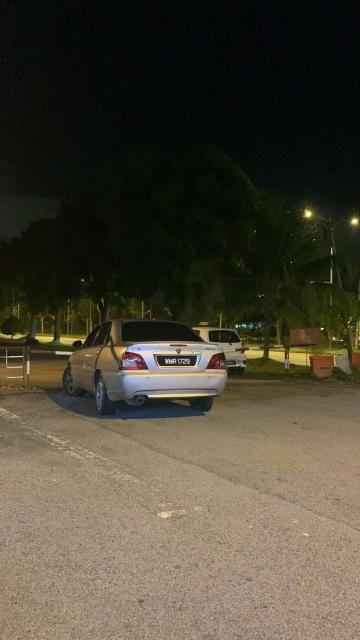License_Plate: (158, 355, 199, 371)
car: (60, 316, 229, 417)
